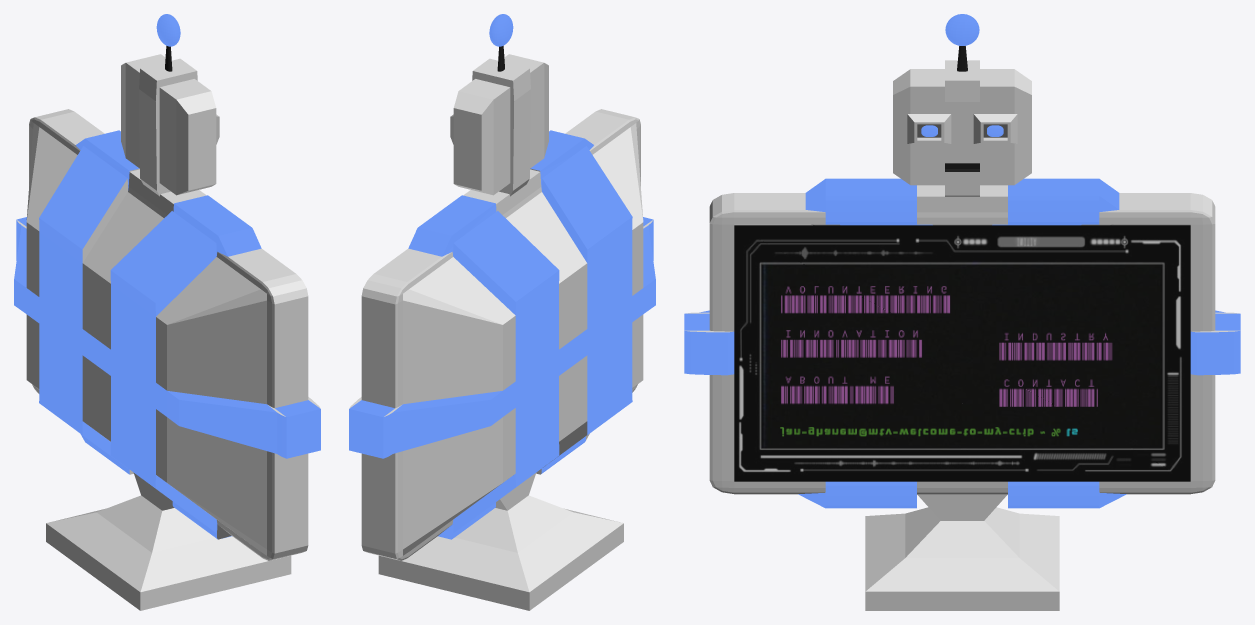
File: robot-6.glb
3 views of the same model, side by side, from view 1: azimuth 30°, elevation 25°; view 2: azimuth 150°, elevation 25°; view 3: azimuth 270°, elevation 25° (orthographic). The views are drawn at different scales.
Visible parts, largest first — view 1: Robot; view 2: Robot; view 3: Screen, Robot.
Boxes of the visible parts, box(x1,y1,x2,y2) form: Robot: box(14, 14, 320, 610); Robot: box(349, 14, 655, 610); Screen: box(734, 225, 1190, 481); Robot: box(684, 14, 1240, 610).
Size of the model in its own units: 13.7 by 47.12 by 42.52.
Materials: 6 (1 with a texture image).
